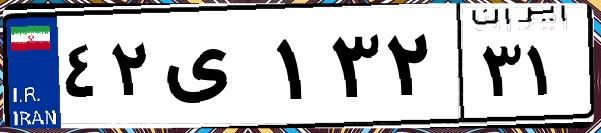1: (270, 28, 330, 110), (525, 38, 570, 115)
2: (385, 28, 445, 110), (110, 28, 158, 98)
3: (330, 28, 385, 110), (475, 38, 525, 113)
4: (57, 26, 110, 100)
ی: (158, 20, 270, 120)
